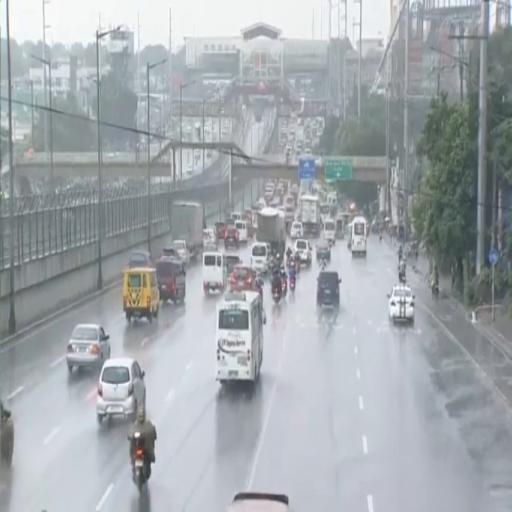bus: (216, 292, 265, 383), (351, 216, 366, 255)
car: (97, 358, 145, 423), (66, 324, 110, 372), (156, 256, 185, 302), (227, 492, 288, 511), (387, 284, 414, 323), (317, 270, 341, 308), (229, 265, 257, 291), (294, 238, 311, 266), (128, 250, 154, 268), (173, 240, 189, 265), (225, 254, 241, 275), (225, 227, 239, 249), (316, 240, 330, 262), (291, 221, 303, 239)
motorcycle: (133, 432, 150, 491), (0, 408, 14, 467), (272, 285, 281, 303), (256, 279, 263, 300), (289, 275, 296, 292), (432, 284, 439, 299), (282, 277, 287, 297), (286, 256, 293, 268), (399, 271, 405, 283)
truck: (171, 202, 203, 263), (256, 207, 285, 255), (298, 195, 320, 236)
